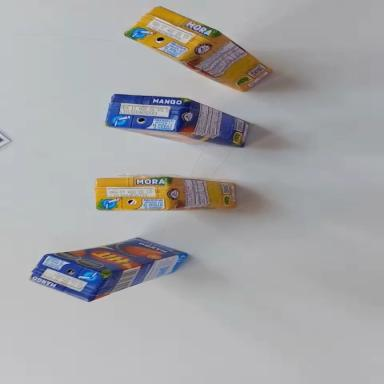HIT-MANGO: (25, 220, 192, 315), (104, 90, 251, 149)
HIT-MORA: (122, 0, 277, 100), (96, 176, 236, 211)
cara_F: (48, 220, 184, 288), (109, 120, 241, 152)
